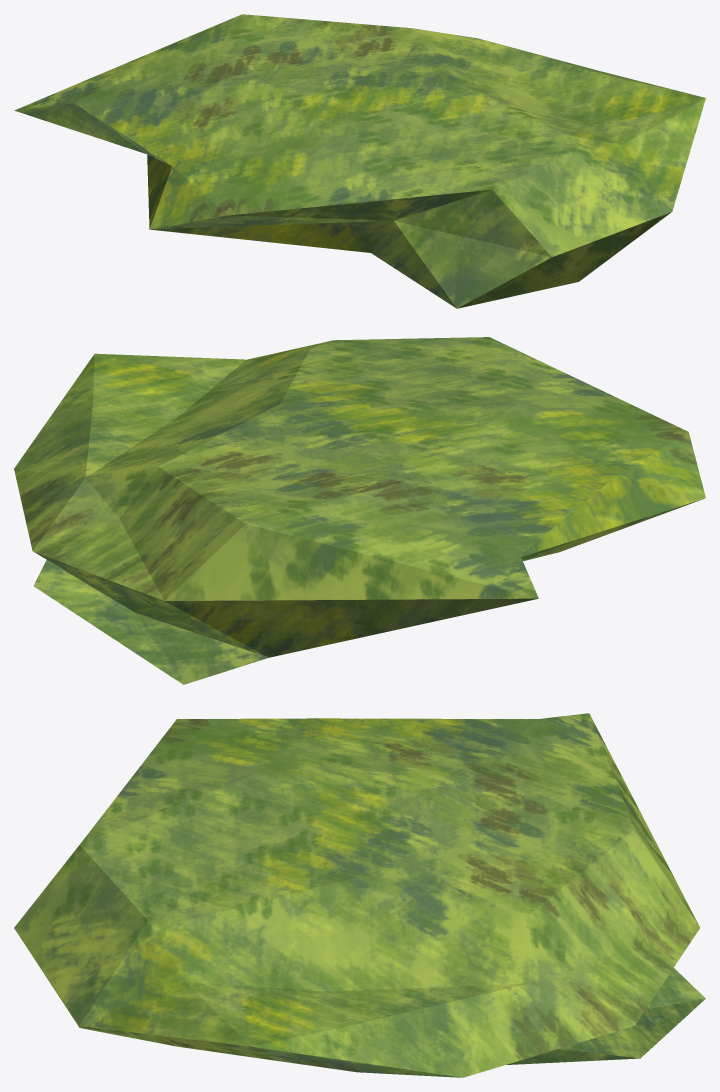
File: foliage5.glb
The picture shows the model from 3 angles, top to bottom: view 1: azimuth 30°, elevation 25°; view 2: azimuth 150°, elevation 25°; view 3: azimuth 270°, elevation 25°; orthographic projection. The views are drawn at different scales.
Parts seen in each view (by area): view 1: foliage5; view 2: foliage5; view 3: foliage5.
Boxes of the visible parts, <box> form: foliage5: <box>14,14,705,308</box>; foliage5: <box>14,337,705,684</box>; foliage5: <box>14,713,705,1077</box>.
Bounding box in the file's own units: 13.23 × 3.14 × 12.11.
Materials: 1 (1 with a texture image).
